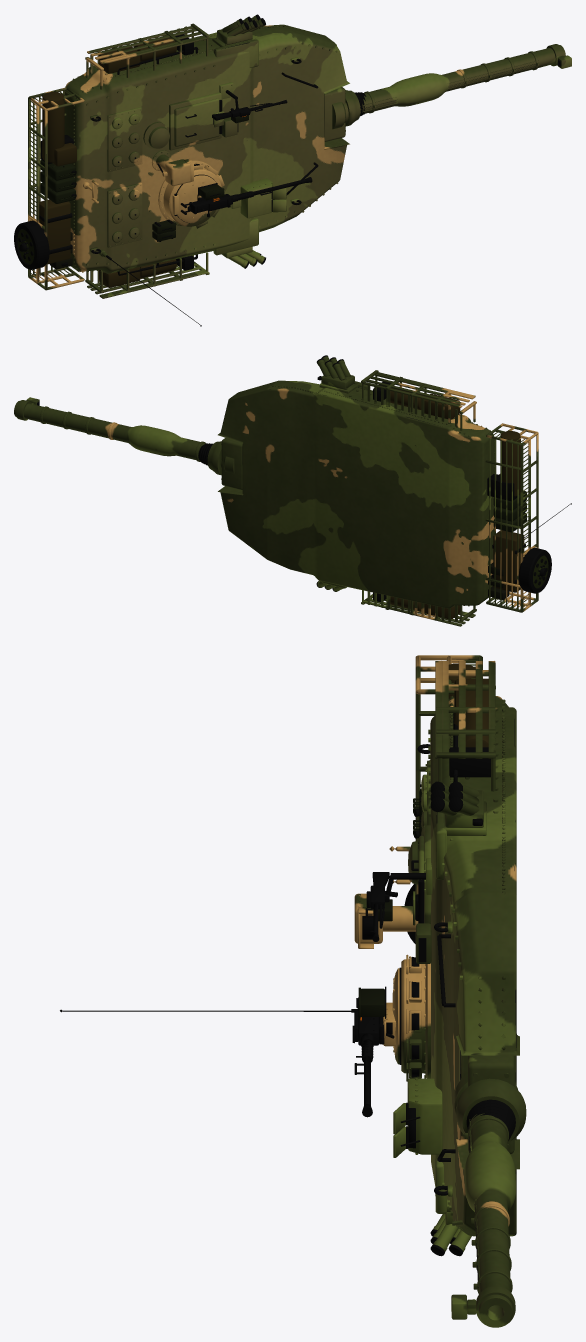
File: tank_turret.obj
3 views of the same model, one above another, from view 1: azimuth 30°, elevation 25°; view 2: azimuth 150°, elevation 25°; view 3: azimuth 270°, elevation 25° (orthographic). The views are drawn at different scales.
Visible parts, largest first — view 1: GAME_Turret; view 2: GAME_Turret; view 3: GAME_Turret.
Part boxes in pixels (x1,y1,x2,y2): GAME_Turret: (14,14,571,326); GAME_Turret: (14,355,571,626); GAME_Turret: (60,655,526,1327).
Bounding box in the file's own units: 9.17 × 3.9 × 3.6.
Materials: 11 (1 with a texture image).
